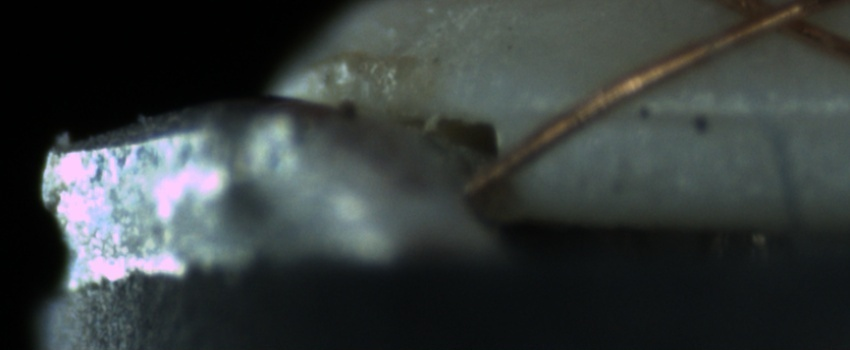CL: (715, 2, 831, 42)
DL: (532, 78, 847, 147)
